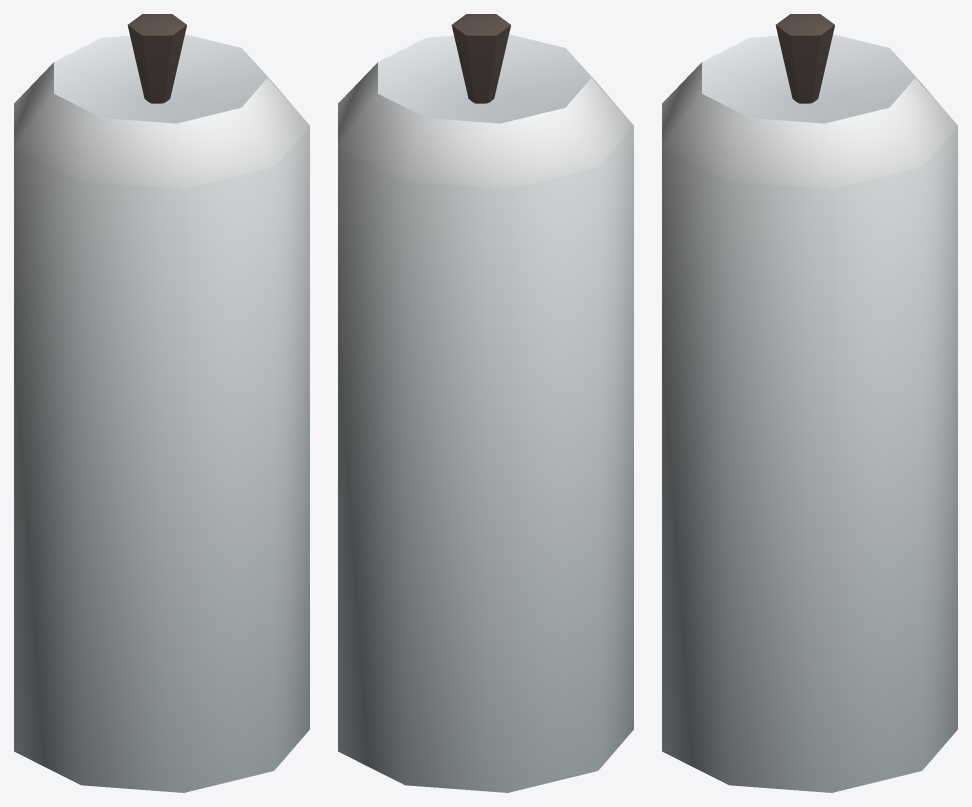
Rendered from Candle-fYtyVjkX3y.glb.
3 views of the same model, side by side, from view 1: azimuth 30°, elevation 25°; view 2: azimuth 150°, elevation 25°; view 3: azimuth 270°, elevation 25° (orthographic).
Visible parts, largest first — view 1: candle; view 2: candle; view 3: candle.
Boxes of the visible parts, <box> form: candle: <box>14,14,309,792</box>; candle: <box>338,14,633,792</box>; candle: <box>662,14,957,792</box>.
Bounding box in the file's own units: 0.3009 × 0.7857 × 0.2964.
1 material, 1 textured.
